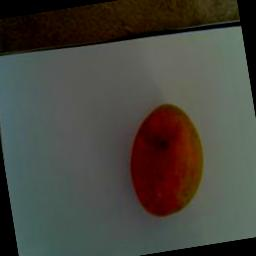Mango Unripe: (114, 87, 232, 246)
